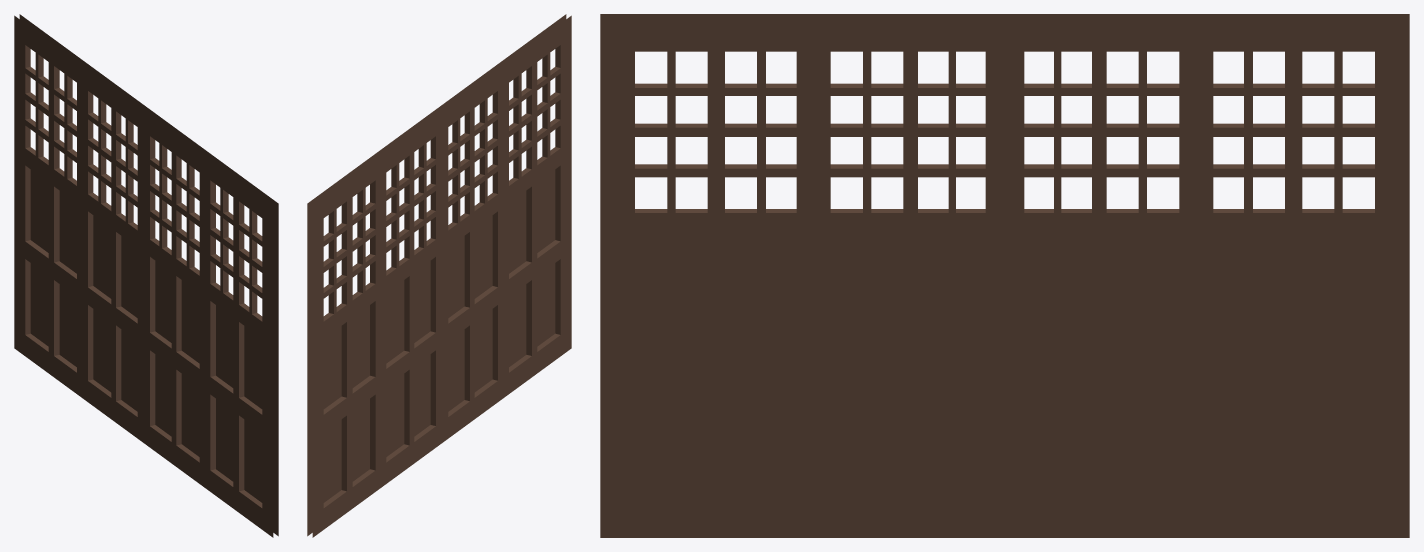
The model's file is Subsurfed_Porch.011.obj.
The picture shows the model from 3 angles, left to right: view 1: azimuth 30°, elevation 25°; view 2: azimuth 150°, elevation 25°; view 3: azimuth 270°, elevation 25°; orthographic projection. The views are drawn at different scales.
Parts seen in each view (by area): view 1: Subsurfed_Porch.011_Cube.001; view 2: Subsurfed_Porch.011_Cube.001; view 3: Subsurfed_Porch.011_Cube.001.
Part boxes in pixels (box(x1,y1,x2,y2)): Subsurfed_Porch.011_Cube.001: box(14, 14, 278, 537); Subsurfed_Porch.011_Cube.001: box(307, 14, 571, 537); Subsurfed_Porch.011_Cube.001: box(600, 14, 1409, 537).
Size of the model in its own units: 0.0596 by 3.47 by 4.89.
